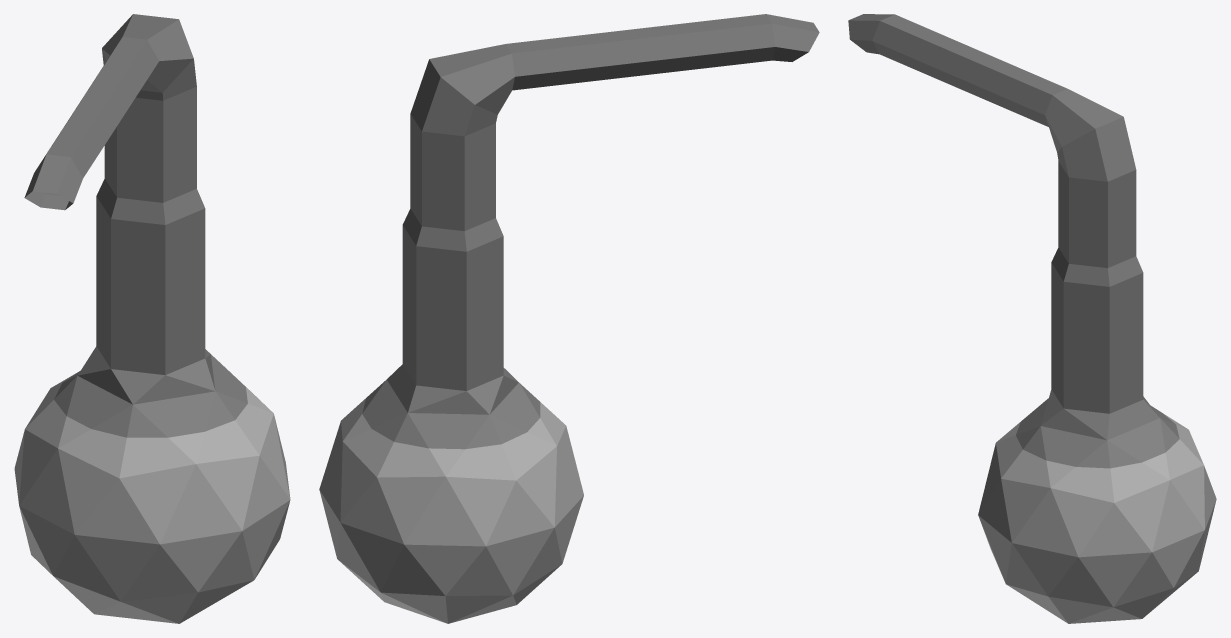
File: alchemist_aparatus_749x05.gltf
The picture shows the model from 3 angles, left to right: view 1: azimuth 30°, elevation 25°; view 2: azimuth 150°, elevation 25°; view 3: azimuth 270°, elevation 25°; orthographic projection. The views are drawn at different scales.
Parts seen in each view (by area): view 1: alchemist_aparatus_749x05; view 2: alchemist_aparatus_749x05; view 3: alchemist_aparatus_749x05.
Part boxes in pixels (x1,y1,x2,y2): alchemist_aparatus_749x05: (14, 14, 290, 623); alchemist_aparatus_749x05: (319, 14, 819, 623); alchemist_aparatus_749x05: (848, 14, 1216, 623).
Bounding box in the file's own units: 0.803 × 1.21 × 0.7967.
Materials: 2 (2 with a texture image).
